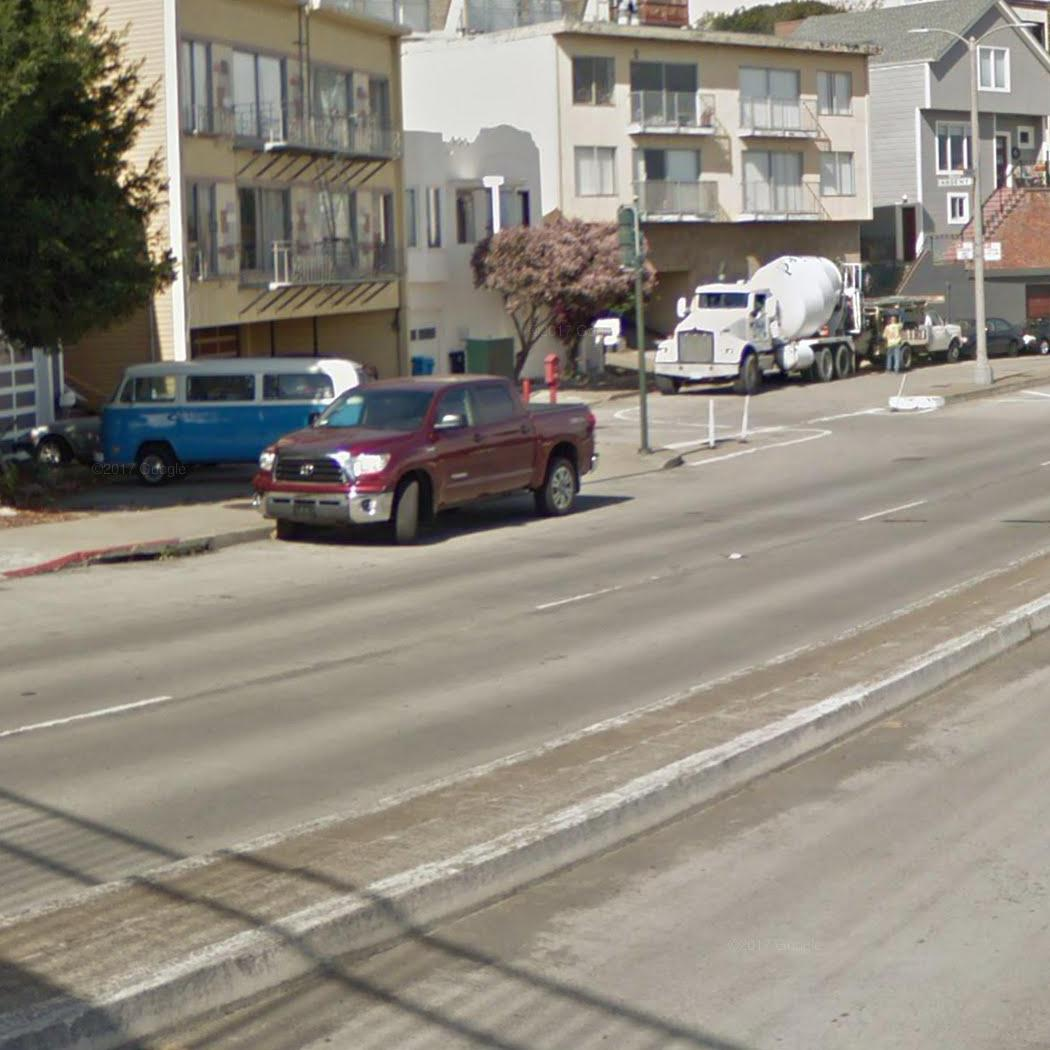No Parking: (983, 240, 1003, 262), (956, 238, 975, 261)
